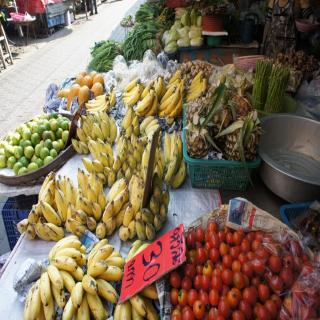Banana: (15, 68, 206, 320), (51, 256, 77, 270)
